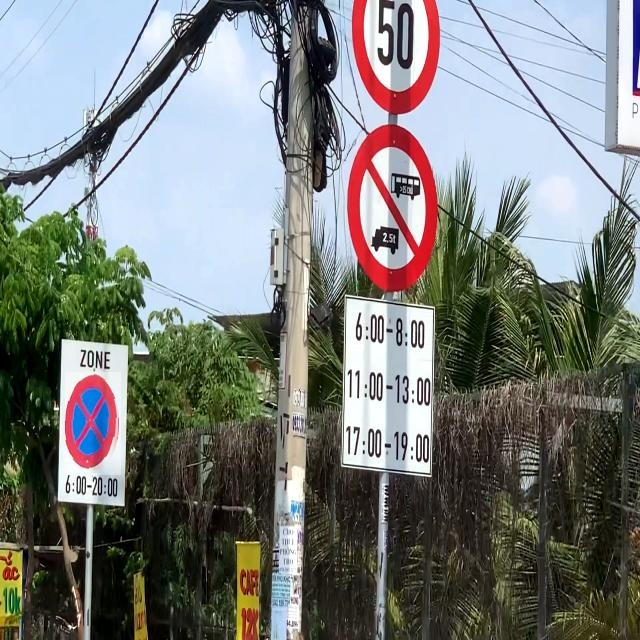bien_cam: (65, 372, 121, 475)
